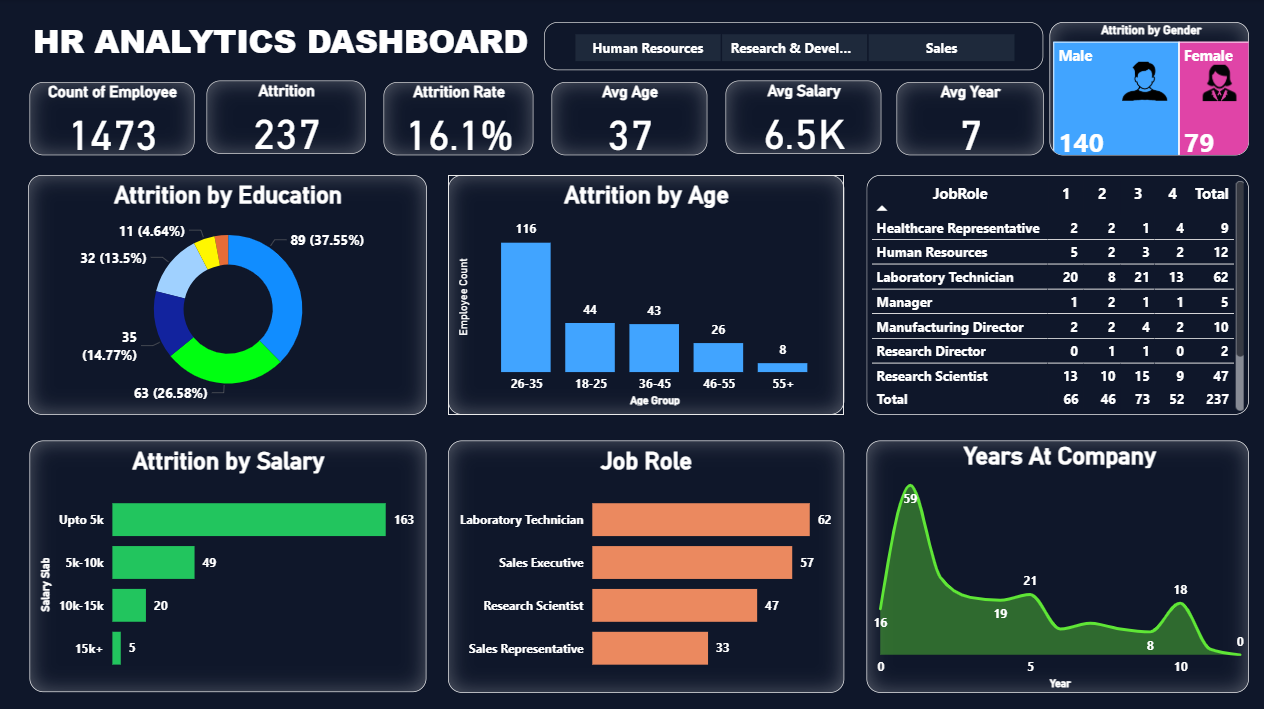

The page's visual inventory and layout, read from the dashboard file:
{"tool":"powerbi","page":{"name":"HR Analytics Dashboard","canvas":[1280,720],"ordinal":0},"visuals":[{"type":"card","title":"Count of Employee","fields":{"Values":["CountNonNull(HR_Analytics Data.EmpID)"]},"box":[31.8,84.8,166.6,74.2],"z":0},{"type":"card","title":"Attrition","fields":{"Values":["Sum(HR_Analytics Data.Attrition_Count)"]},"box":[210.5,83.3,160.5,74.2],"z":1000},{"type":"card","title":"Attrition Rate","fields":{"Values":["HR_Analytics Data.Attrition_Rate"]},"box":[389.2,84.8,151.4,74.2],"z":2000},{"type":"card","title":"Avg Age","fields":{"Values":["Avg(HR_Analytics Data.Age)"]},"box":[558.7,84.8,157.5,74.2],"z":3000},{"type":"card","title":"Avg Salary","fields":{"Values":["Avg(HR_Analytics Data.MonthlyIncome)"]},"box":[734.4,83.3,157.5,74.2],"z":4000},{"type":"card","title":"Avg Year","fields":{"Values":["Avg(HR_Analytics Data.YearsAtCompany)"]},"box":[907,84.8,148.4,74.2],"z":5000},{"type":"donutChart","title":"Attrition by Education","fields":{"Category":["HR_Analytics Data.EducationField"],"Y":["Sum(HR_Analytics Data.Attrition_Count)"]},"box":[30.3,178.7,402.8,242.3],"z":6000},{"type":"columnChart","title":"Attrition by Age","fields":{"Category":["HR_Analytics Data.AgeGroup"],"Y":["Sum(HR_Analytics Data.Attrition_Count)"]},"box":[454.3,178.7,399.8,242.3],"z":7000},{"type":"pivotTable","fields":{"Rows":["HR_Analytics Data.JobRole"],"Columns":["HR_Analytics Data.JobSatisfaction"],"Values":["Sum(HR_Analytics Data.Attrition_Count)"]},"box":[876.7,178.7,386.1,242.3],"z":8000},{"type":"barChart","title":"Attrition by Salary","fields":{"Category":["HR_Analytics Data.SalarySlab"],"Y":["Sum(HR_Analytics Data.Attrition_Count)"]},"box":[31.8,446.6,400.5,254.3],"z":9000},{"type":"barChart","title":"Job Role","fields":{"Category":["HR_Analytics Data.JobRole"],"Y":["Sum(HR_Analytics Data.Attrition_Count)"]},"box":[454.3,446.7,399.8,254.4],"z":10000},{"type":"areaChart","title":"Years At Company","fields":{"Category":["HR_Analytics Data.YearsAtCompany"],"Y":["Sum(HR_Analytics Data.Attrition_Count)"]},"box":[876.7,446.7,386.1,254.4],"z":11000},{"type":"treemap","title":"Attrition by Gender","fields":{"Group":["HR_Analytics Data.Gender"],"Values":["Sum(HR_Analytics Data.Attrition_Count)"]},"box":[1061.5,24.2,201.4,134.8],"z":12000},{"type":"slicer","fields":{"Values":["HR_Analytics Data.Department"]},"box":[551.2,24.2,504.2,48.5],"z":13000},{"type":"textbox","box":[30.3,15.1,520.9,59.1],"z":14000}]}

Visuals, with their boxes in screenshot pixels (x1, y1, x2, y2), scaled from the page's 1280x720 canvas onto the 1264x709 screenshot:
"Count of Employee" card: rect(31, 84, 196, 157)
"Attrition" card: rect(208, 82, 366, 155)
"Attrition Rate" card: rect(384, 84, 534, 157)
"Avg Age" card: rect(552, 84, 707, 157)
"Avg Salary" card: rect(725, 82, 881, 155)
"Avg Year" card: rect(896, 84, 1042, 157)
"Attrition by Education" donutChart: rect(30, 176, 428, 415)
"Attrition by Age" columnChart: rect(449, 176, 843, 415)
pivotTable - HR_Analytics Data.JobRole x HR_Analytics Data.JobSatisfaction: rect(866, 176, 1247, 415)
"Attrition by Salary" barChart: rect(31, 440, 427, 690)
"Job Role" barChart: rect(449, 440, 843, 690)
"Years At Company" areaChart: rect(866, 440, 1247, 690)
"Attrition by Gender" treemap: rect(1048, 24, 1247, 157)
slicer - HR_Analytics Data.Department: rect(544, 24, 1042, 72)
textbox: rect(30, 15, 544, 73)
